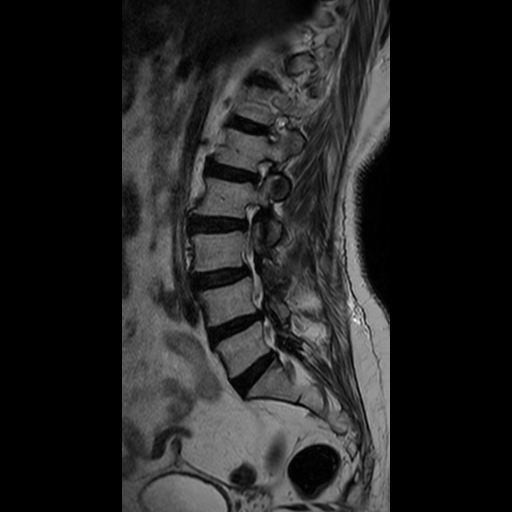RFS0: (240, 150, 283, 195)
